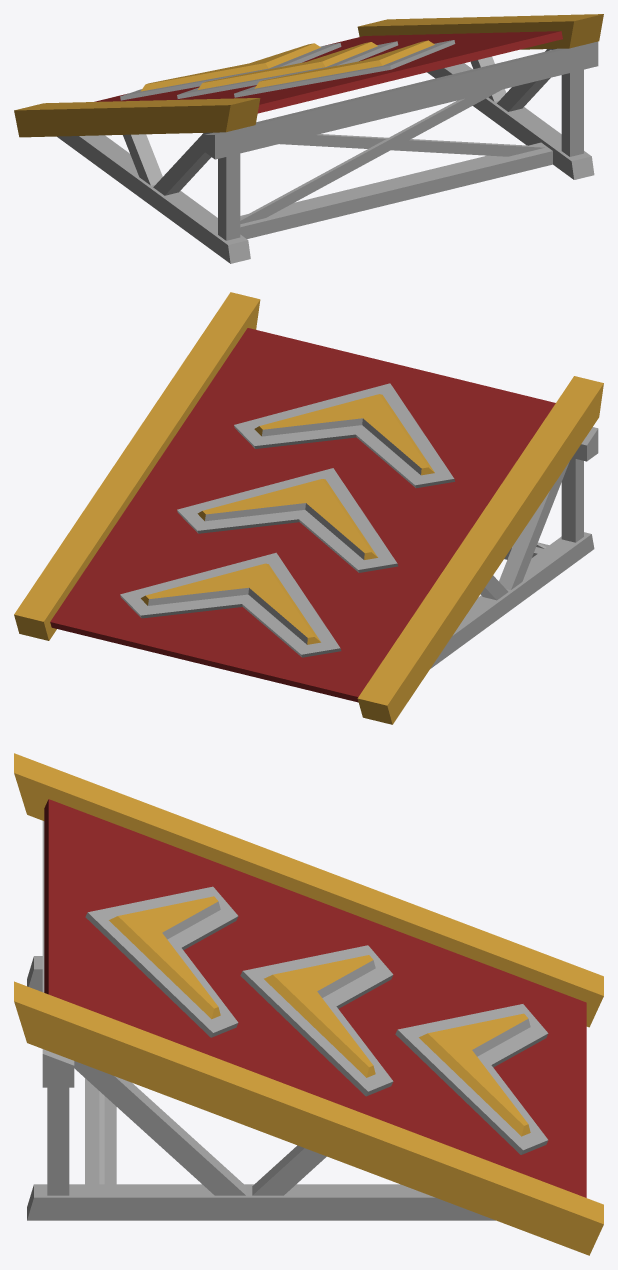
The model's file is ramp_powerup (1).fbx.
3 views of the same model, one above another, from view 1: azimuth 30°, elevation 25°; view 2: azimuth 150°, elevation 25°; view 3: azimuth 270°, elevation 25° (orthographic). The views are drawn at different scales.
Visible parts, largest first — view 1: RAMP1; view 2: RAMP1; view 3: RAMP1.
Boxes of the visible parts, x1,y1,x2,y2 form: RAMP1: (14, 14, 603, 263); RAMP1: (14, 292, 603, 724); RAMP1: (14, 753, 603, 1255).
Size of the model in its own units: 4.06 by 1.89 by 3.97.
